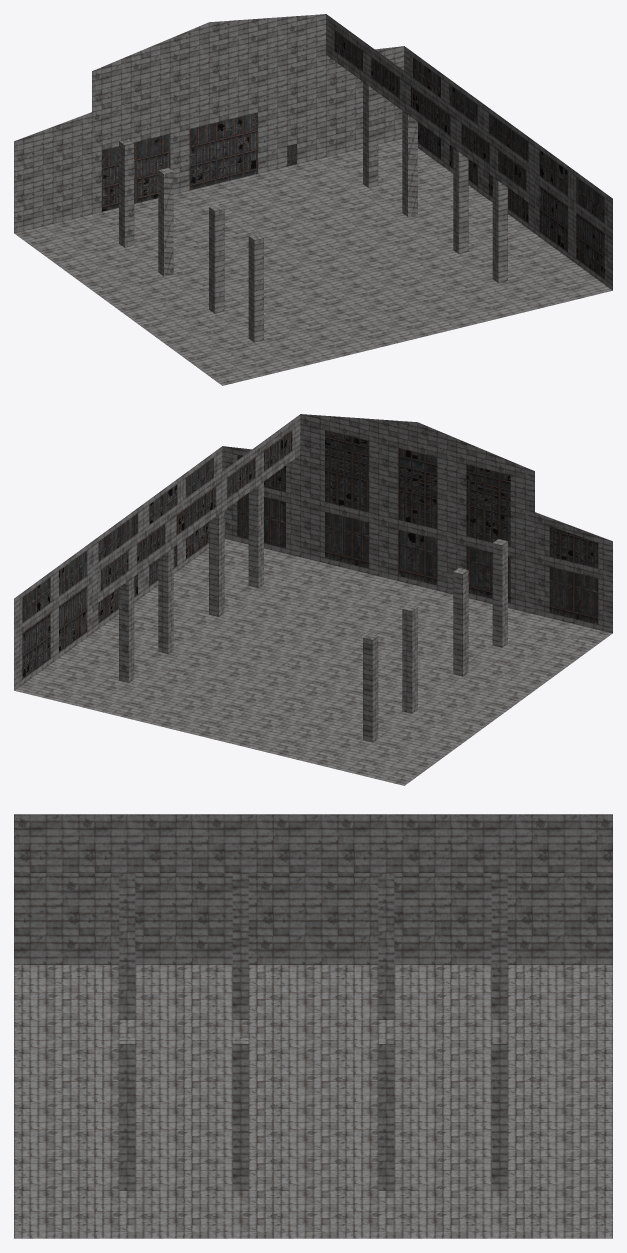
Rendered from Hall.glb.
3 views of the same model, one above another, from view 1: azimuth 30°, elevation 25°; view 2: azimuth 150°, elevation 25°; view 3: azimuth 270°, elevation 25° (orthographic). The views are drawn at different scales.
Parts seen in each view (by area): view 1: Box-col.001, Box-col.006, Box-col.009, Box-col.007, Box-col.008, Box-col.005, Box-col.004, Box-col.002, Box-col.003; view 2: Box-col.001, Box-col.007, Box-col.008, Box-col.006, Box-col.009, Box-col.003, Box-col.002, Box-col.004, Box-col.005; view 3: Box-col.001, Box-col.002, Box-col.003, Box-col.004, Box-col.005, Box-col.006, Box-col.007, Box-col.008, Box-col.009.
Part boxes in pixels (box(x1,y1,x2,y2)): Box-col.001: box(14, 14, 612, 385); Box-col.006: box(209, 205, 224, 313); Box-col.009: box(248, 234, 263, 342); Box-col.007: box(119, 139, 134, 247); Box-col.008: box(158, 168, 173, 276); Box-col.005: box(492, 177, 507, 282); Box-col.004: box(402, 111, 417, 216); Box-col.002: box(453, 148, 468, 253); Box-col.003: box(363, 82, 378, 187); Box-col.001: box(14, 414, 612, 785); Box-col.007: box(363, 634, 378, 742); Box-col.008: box(402, 605, 417, 713); Box-col.006: box(453, 568, 468, 676); Box-col.009: box(492, 539, 507, 647); Box-col.003: box(119, 577, 134, 682); Box-col.002: box(209, 511, 224, 616); Box-col.004: box(158, 548, 173, 653); Box-col.005: box(248, 482, 263, 587); Box-col.001: box(14, 814, 612, 1238); Box-col.002: box(232, 1037, 248, 1190); Box-col.003: box(491, 1037, 507, 1190); Box-col.004: box(378, 1037, 394, 1190); Box-col.005: box(119, 1037, 135, 1190); Box-col.006: box(232, 873, 248, 1019); Box-col.007: box(491, 873, 507, 1019); Box-col.008: box(378, 873, 394, 1019); Box-col.009: box(119, 873, 135, 1019).
Bounding box in the file's own units: 40 × 16 × 37.
Materials: 3 (3 with a texture image).
